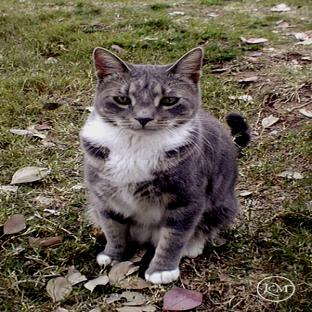Animal: (80, 47, 250, 283)
